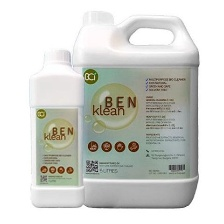cleaning_solution: (70, 8, 203, 211), (24, 46, 87, 212)
